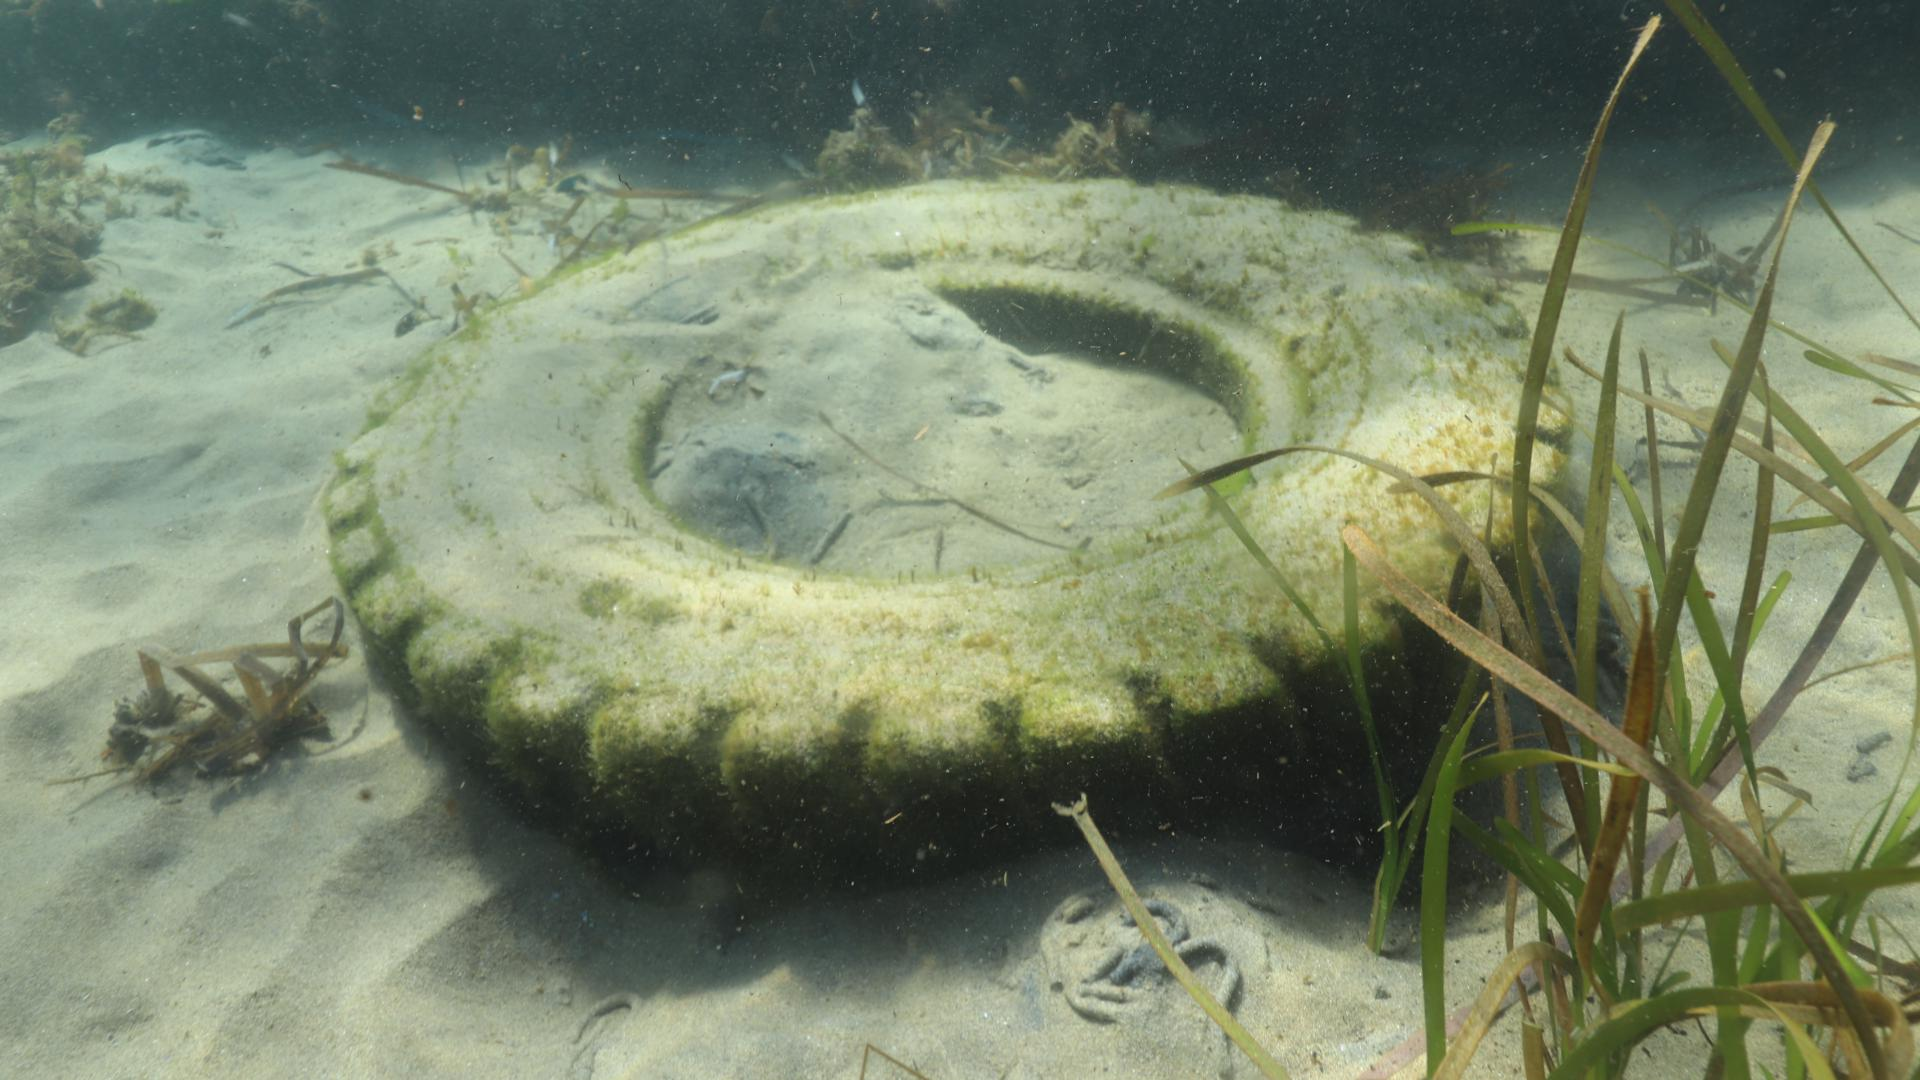tire: (324, 173, 1575, 895)
